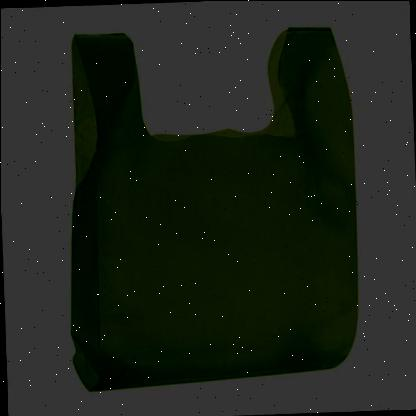Others: (68, 25, 360, 392)
